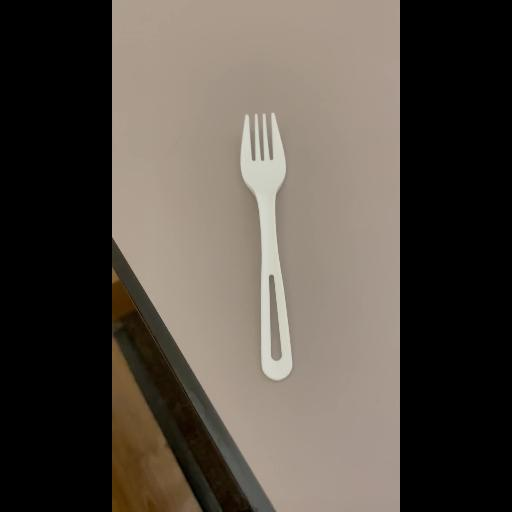utensil: (231, 102, 319, 392)
